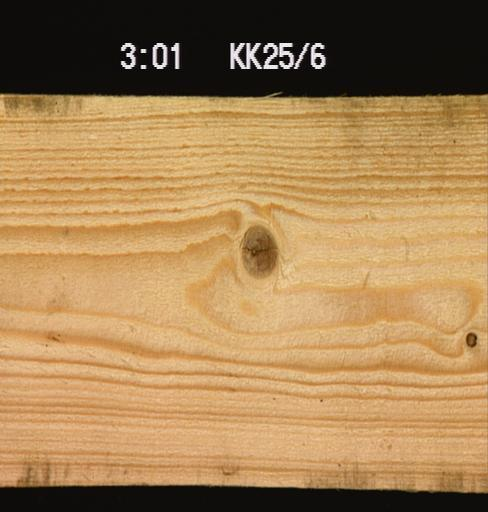dry_knot: (461, 327, 477, 349)
sound_knot: (236, 223, 280, 277)
